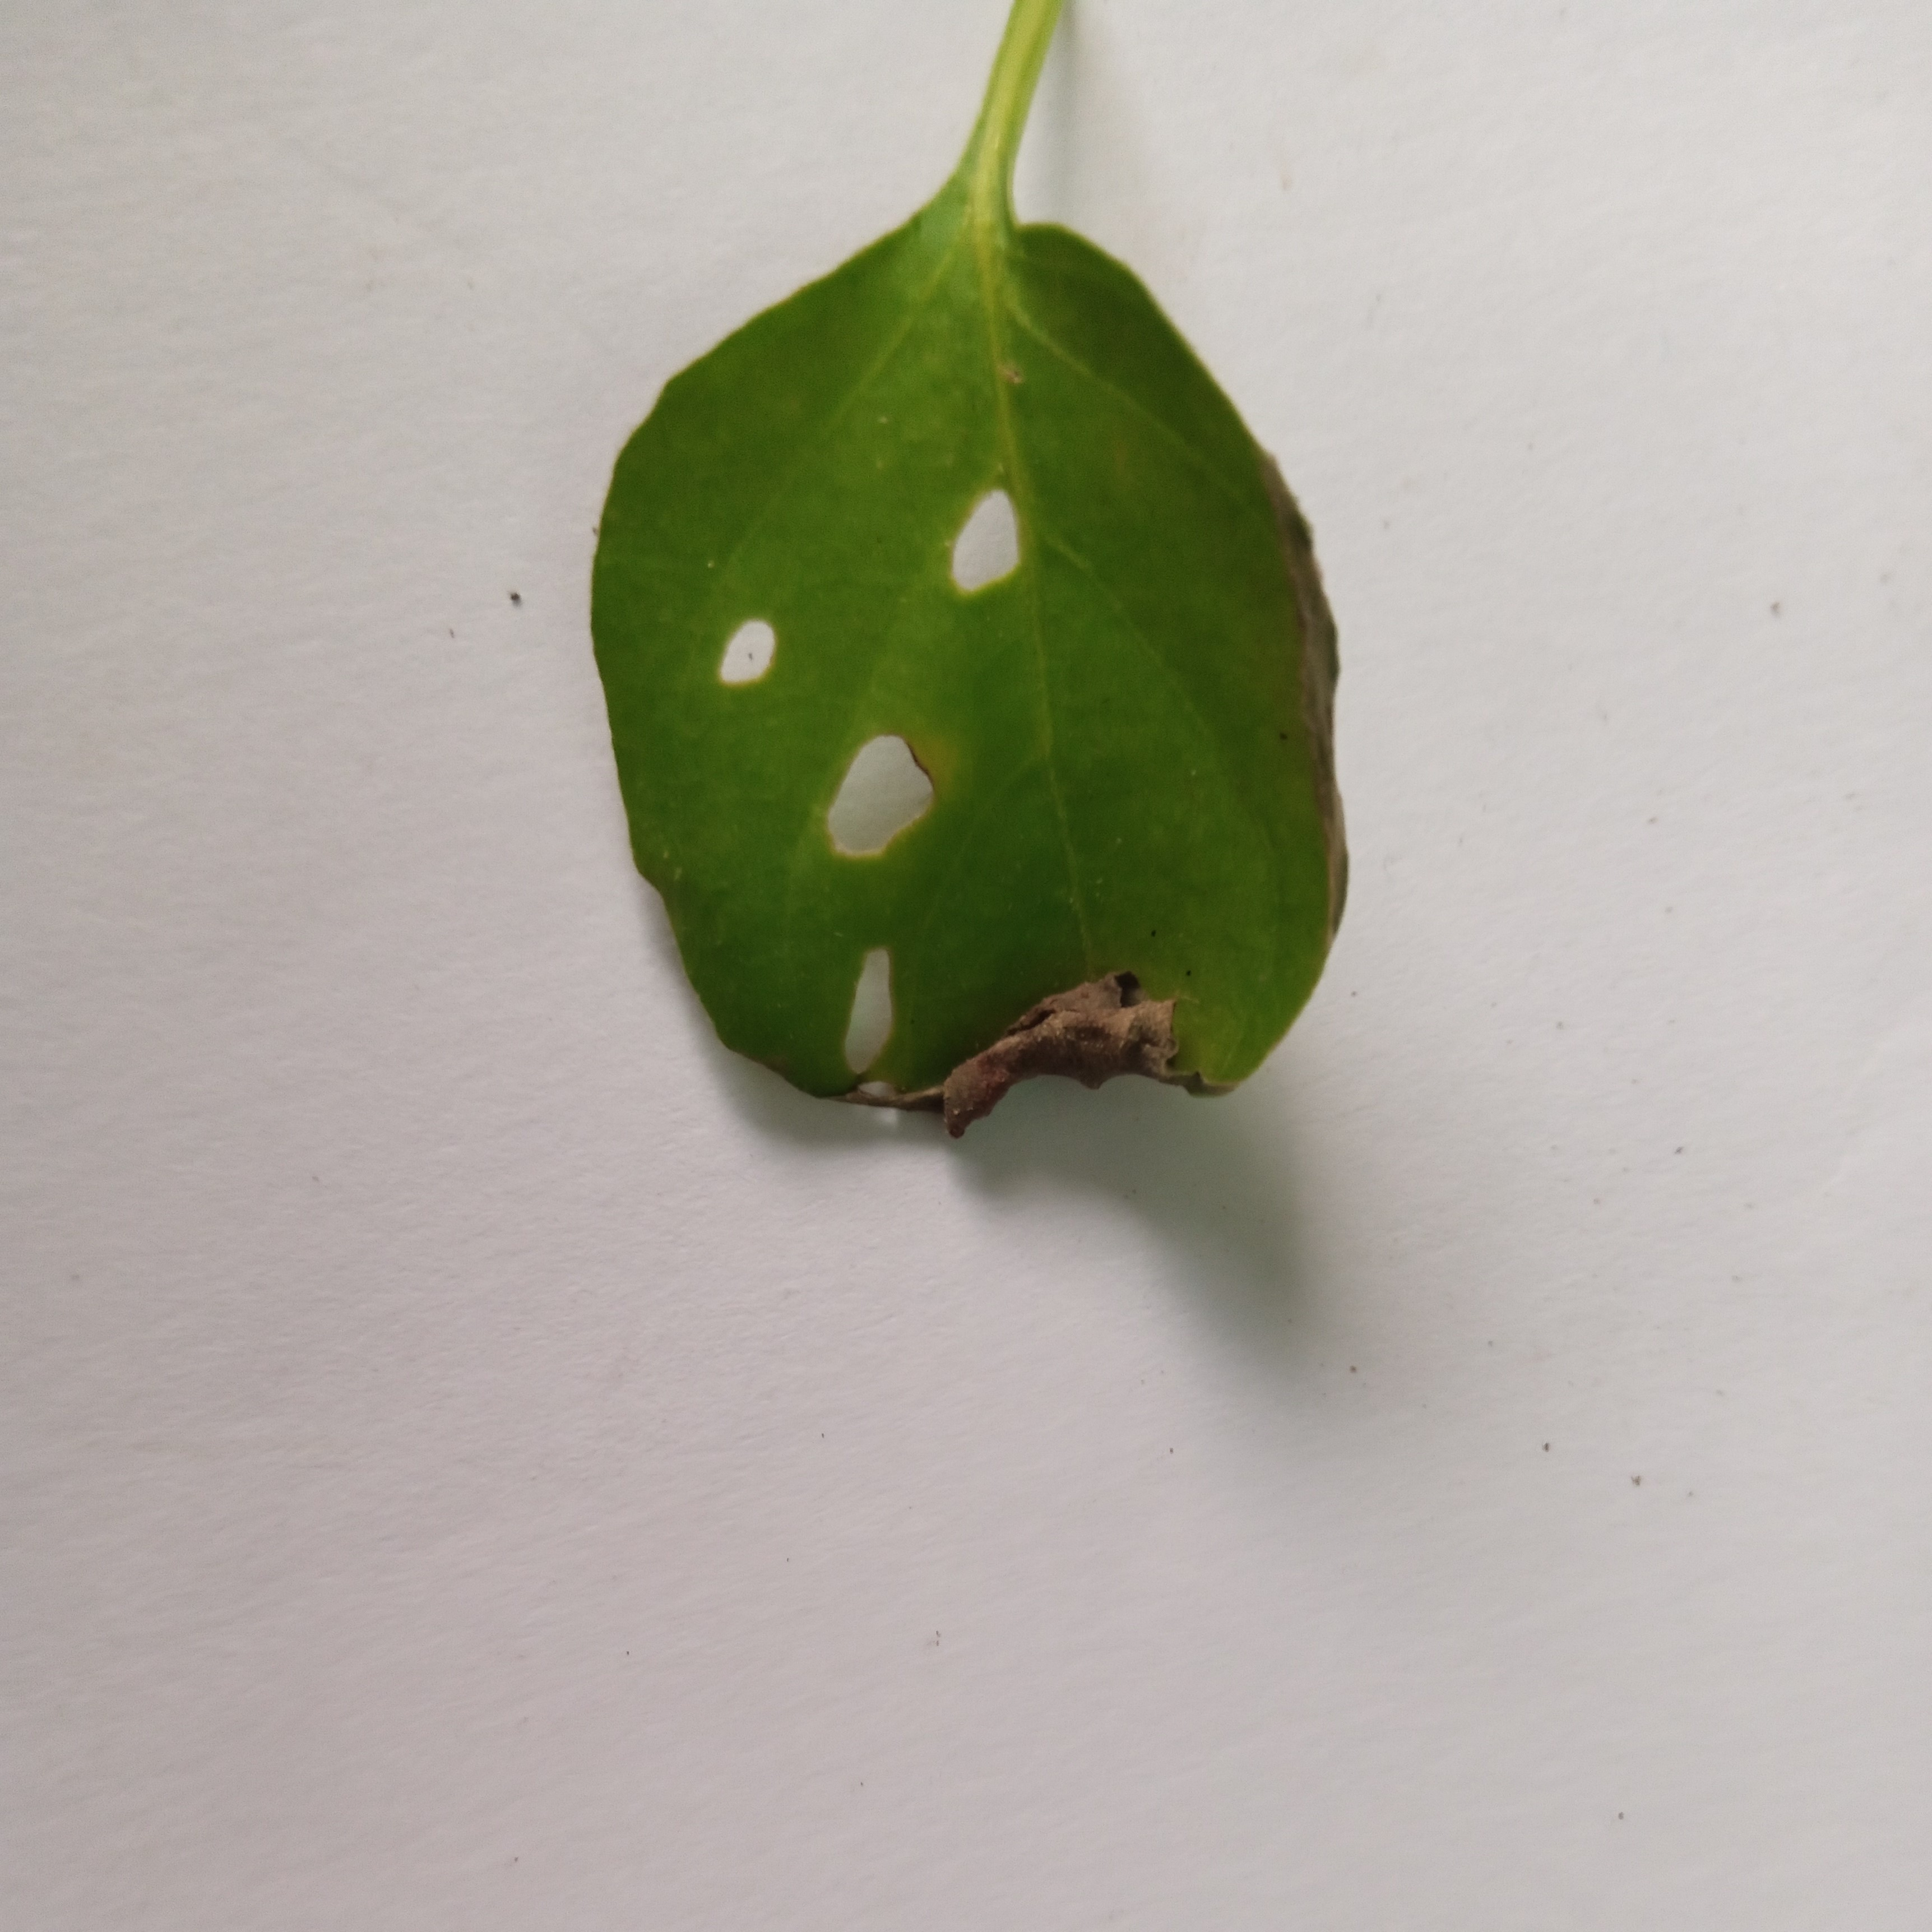Leaf: (419, 152, 1483, 1373)
